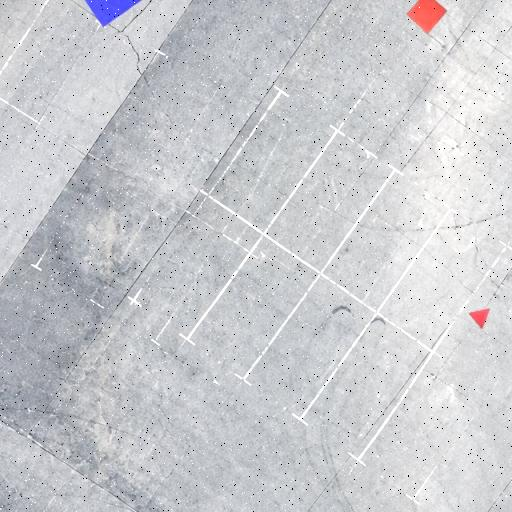BLUE_SQUARE: (73, 0, 154, 28)
RED_SQUARE: (406, 0, 447, 34)
